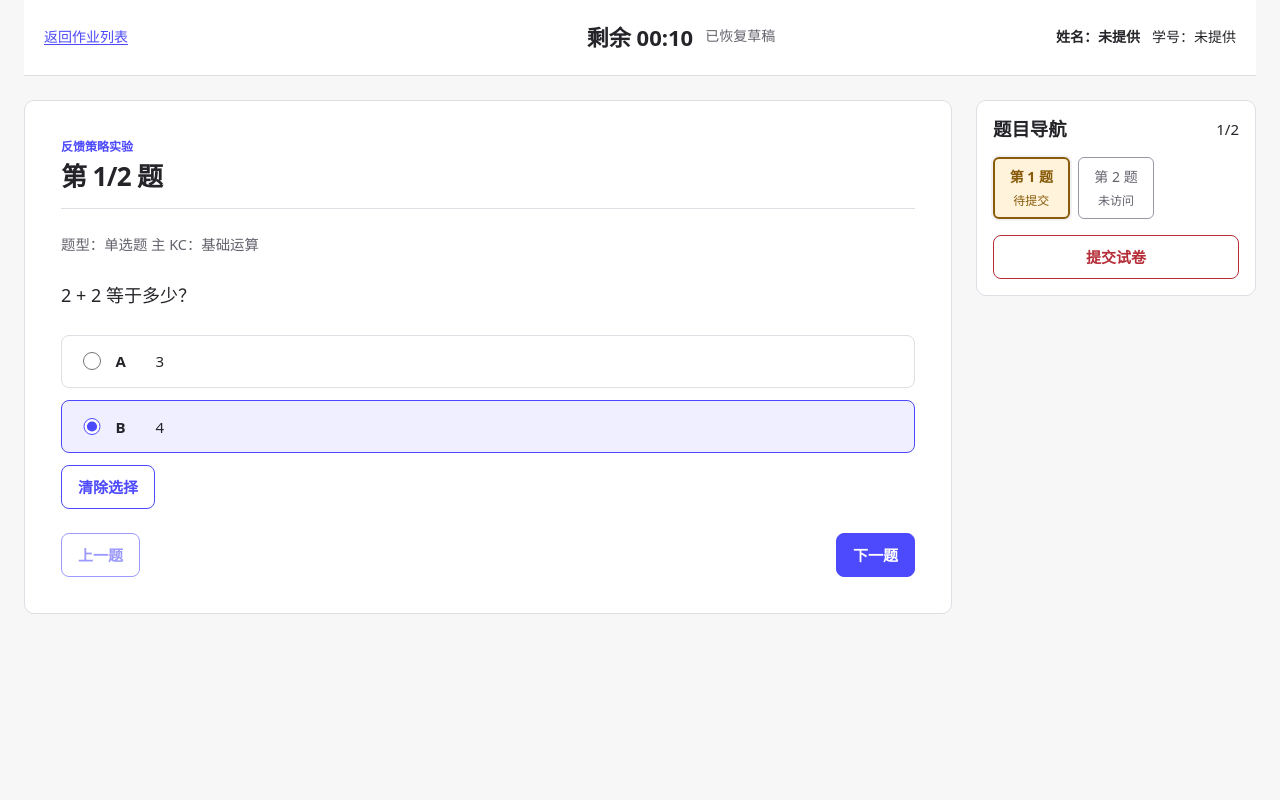
Test: StudentAssessment › does not clear an immutable navigation on an unconfirmed rejection
Click the link "第 2 题 未访问" at (1116, 188), box [1078,157,1154,219]
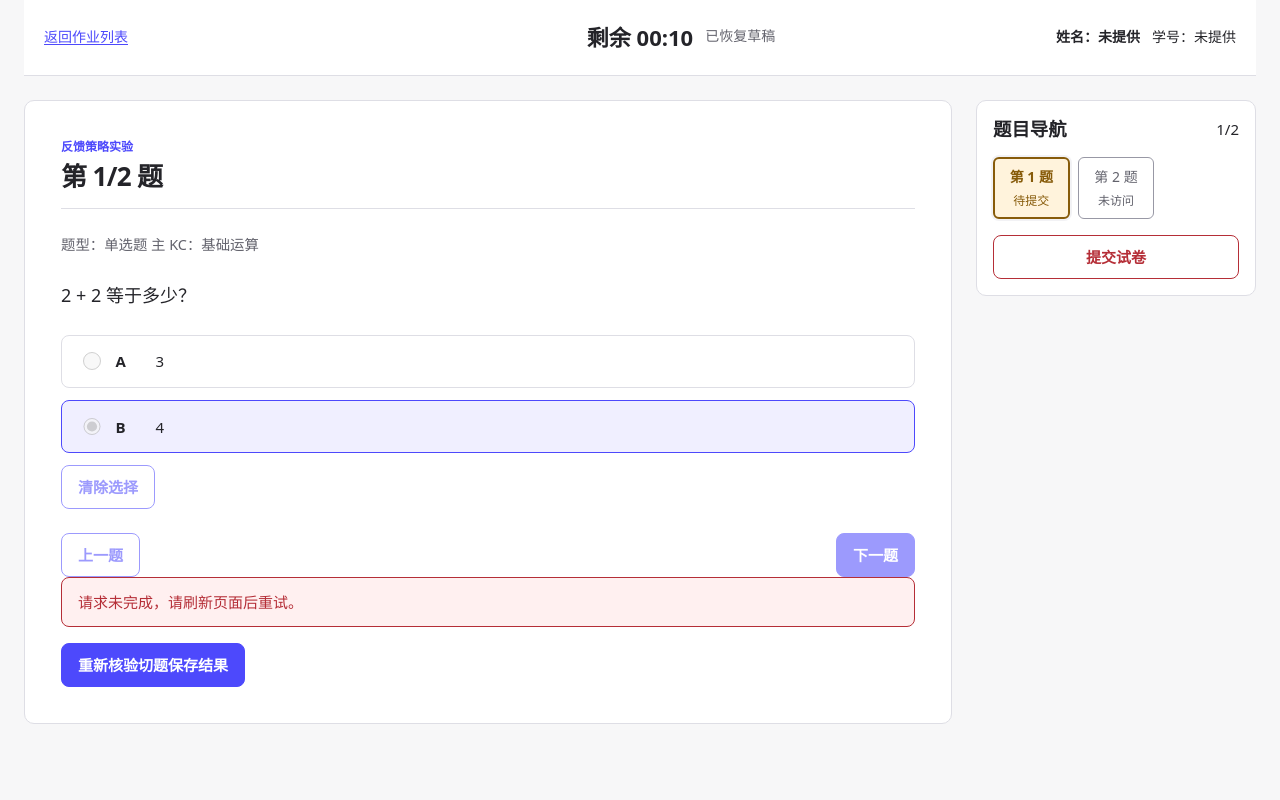
Check: the button "重新核验切题保存结果" is shown, box [61,643,245,687]
Check: the button "下一题" is disabled, box [836,533,915,577]
